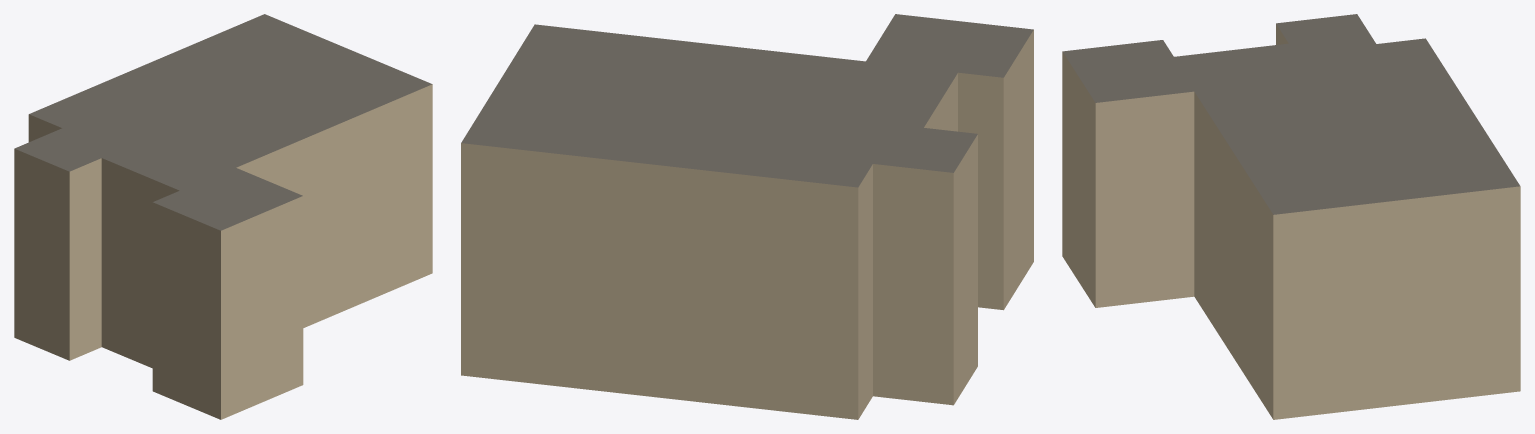
3 renders of one model, left to right at view 1: azimuth 30°, elevation 25°; view 2: azimuth 150°, elevation 25°; view 3: azimuth 270°, elevation 25°, orthographic. The views are drawn at different scales.
Visible parts, largest first — view 1: HP-w572270464; view 2: HP-w572270464; view 3: HP-w572270464.
Boxes of the visible parts, x1,y1,x2,y2 form: HP-w572270464: (14, 14, 432, 419); HP-w572270464: (461, 14, 1033, 419); HP-w572270464: (1062, 14, 1520, 419).
Size of the model in its own units: 41.59 by 19.8 by 40.08.
